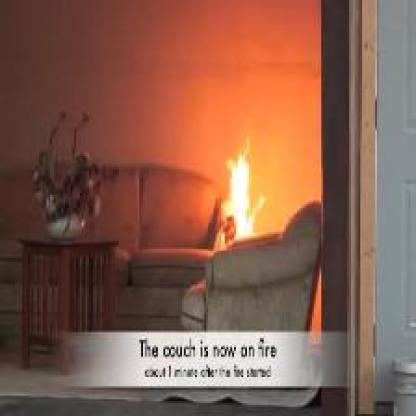fire: (199, 137, 278, 261)
